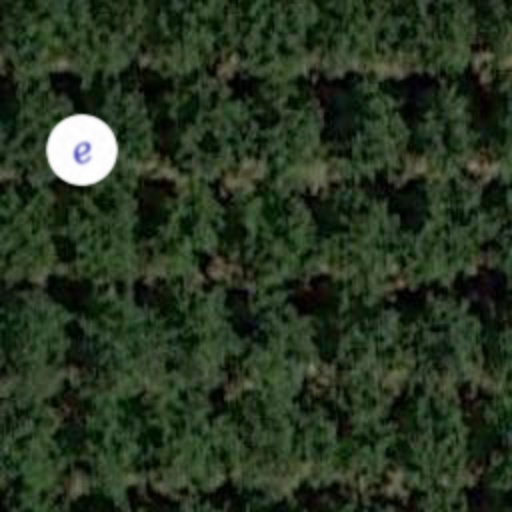circle: (36, 104, 128, 196)
